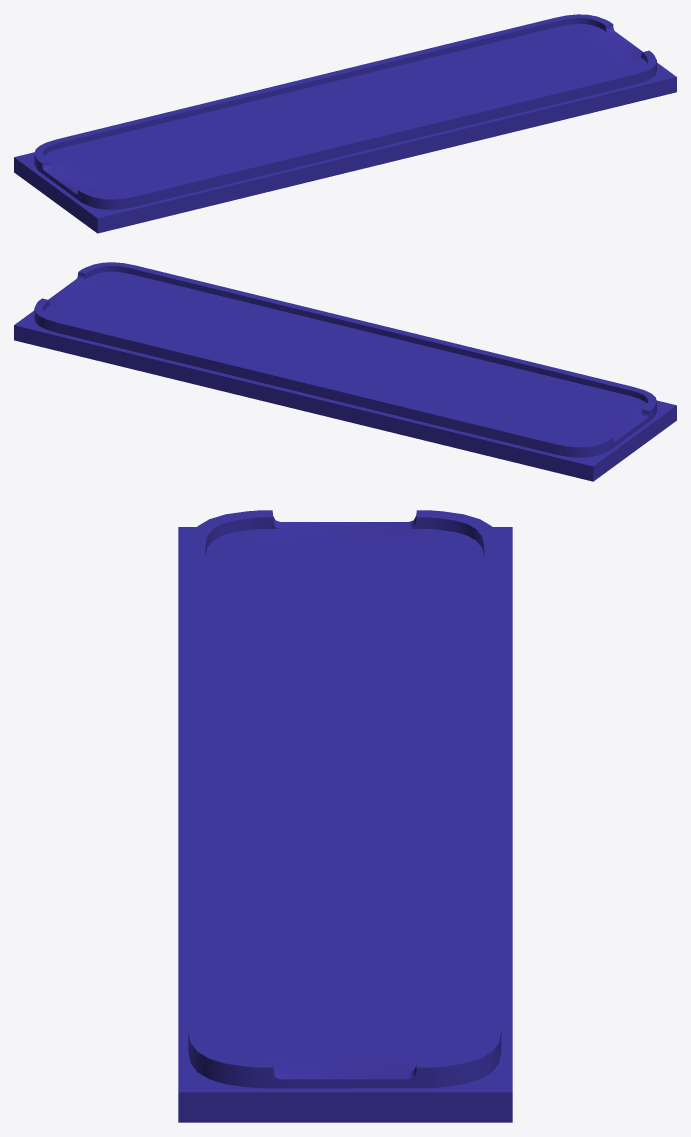
The model's file is Floor_A_M_Dbl.FBX.
3 views of the same model, one above another, from view 1: azimuth 30°, elevation 25°; view 2: azimuth 150°, elevation 25°; view 3: azimuth 270°, elevation 25° (orthographic). The views are drawn at different scales.
Visible parts, largest first — view 1: Floor_A_M_Dbl; view 2: Floor_A_M_Dbl; view 3: Floor_A_M_Dbl.
Boxes of the visible parts, x1,y1,x2,y2 form: Floor_A_M_Dbl: (14, 14, 676, 233); Floor_A_M_Dbl: (14, 262, 676, 481); Floor_A_M_Dbl: (178, 510, 512, 1122).
Size of the model in its own units: 400 by 16.79 by 100.
